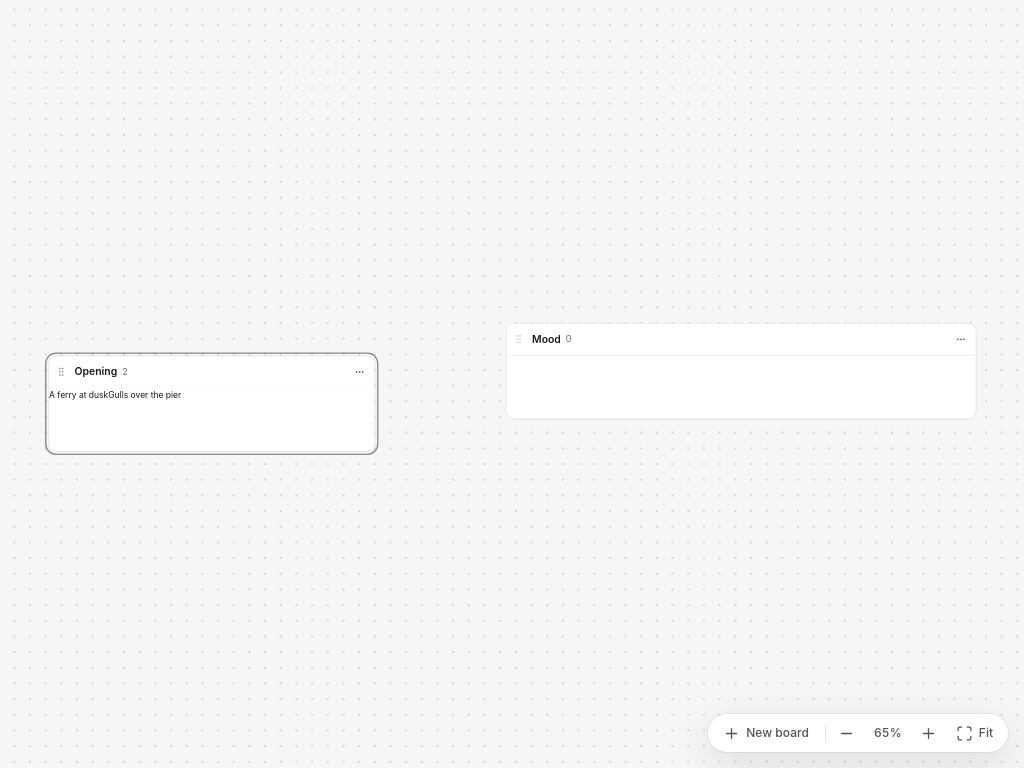
the Media canvas › a double click on the title renames inline: Enter saves, Escape cancels
Double-click the text "Opening" at (96, 372), box [75,365,117,379]
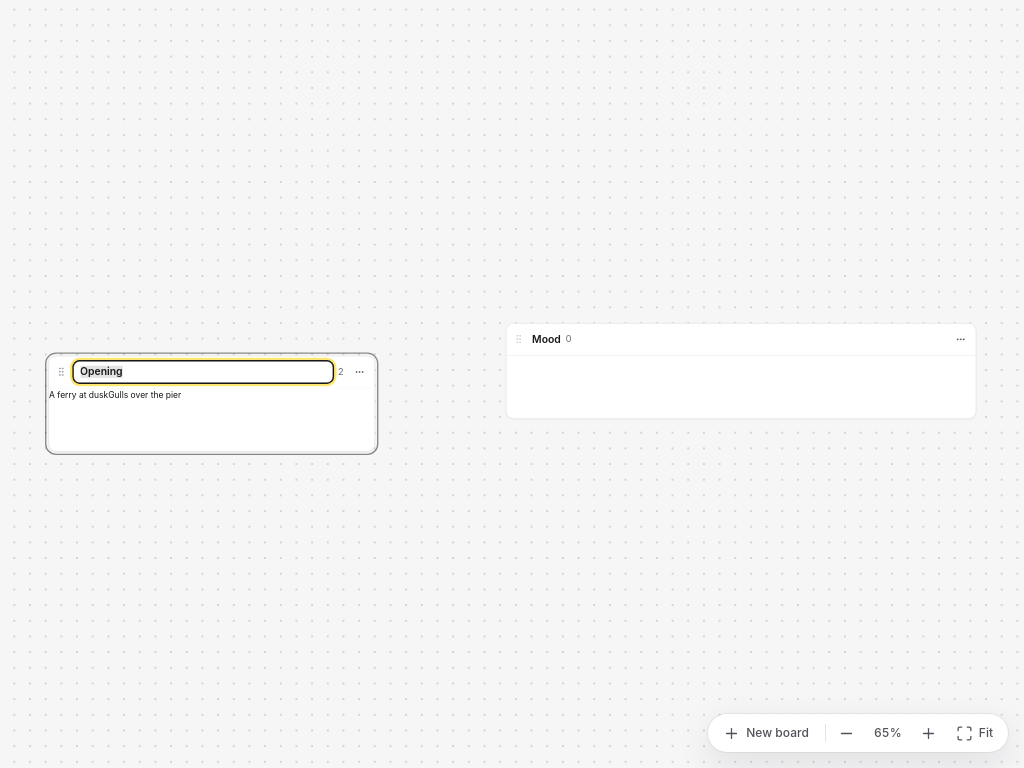
Replace the text in the field named "Board name" with "  Cold open  " at (203, 372), box [73,361,333,383]
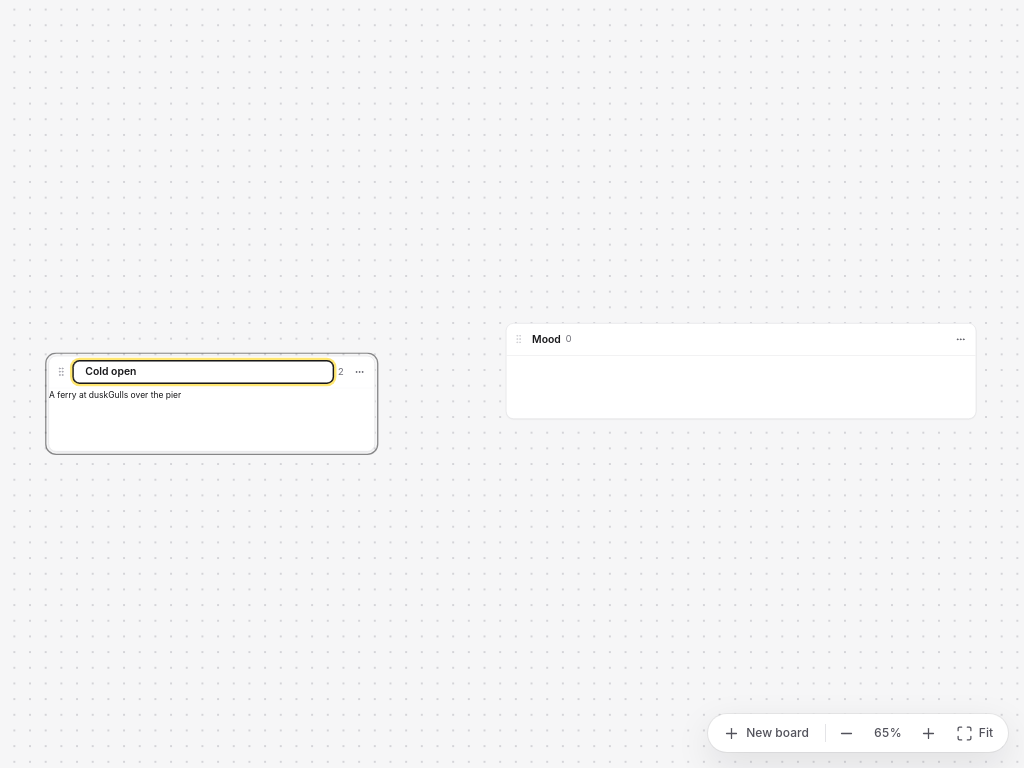
Press Enter in the field named "Board name", box [73,361,333,383]
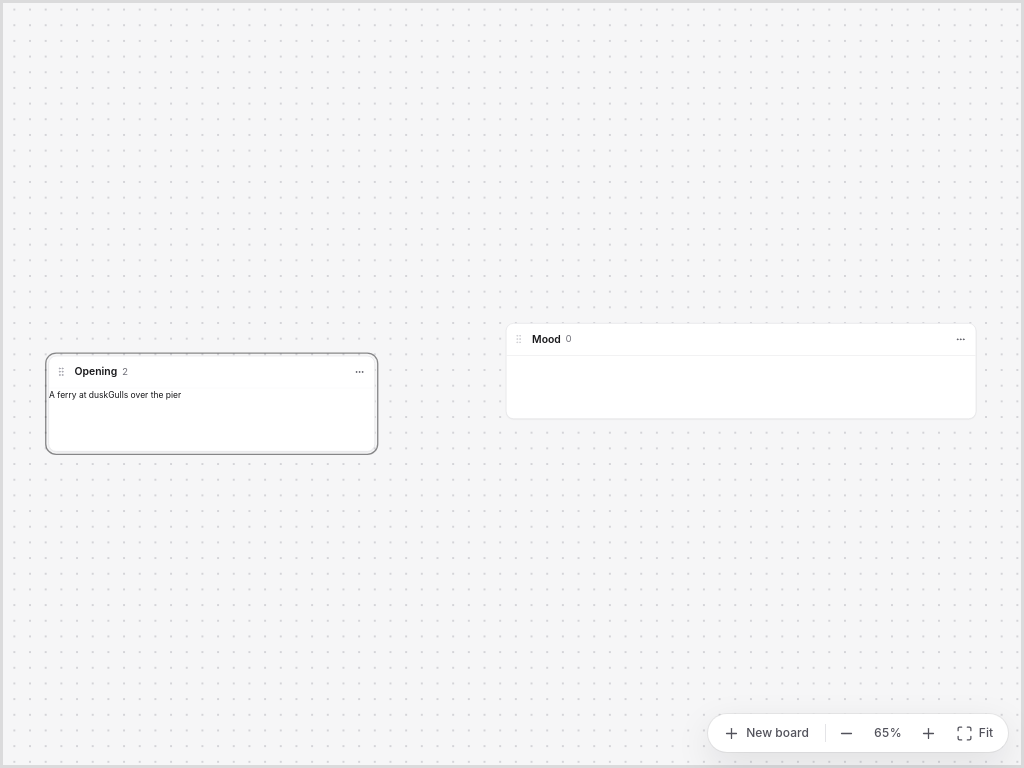
Double-click the text "Mood" at (546, 339), box [532,332,561,346]
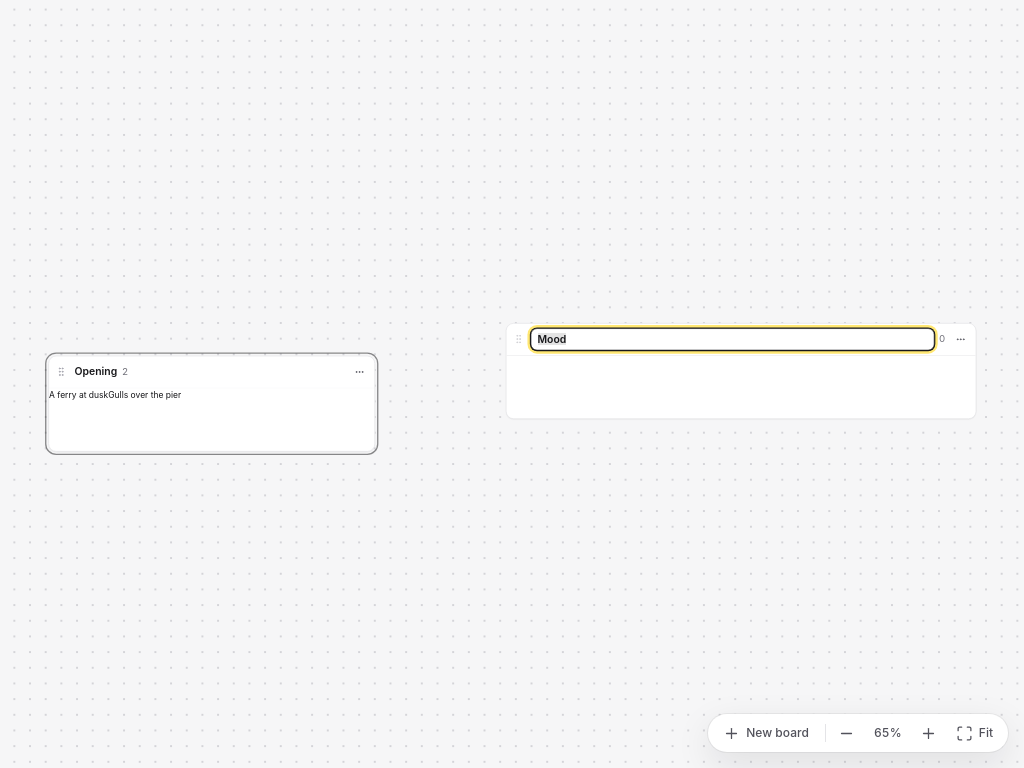
Replace the text in the field named "Board name" with "Never saved" at (732, 339), box [530,328,934,350]
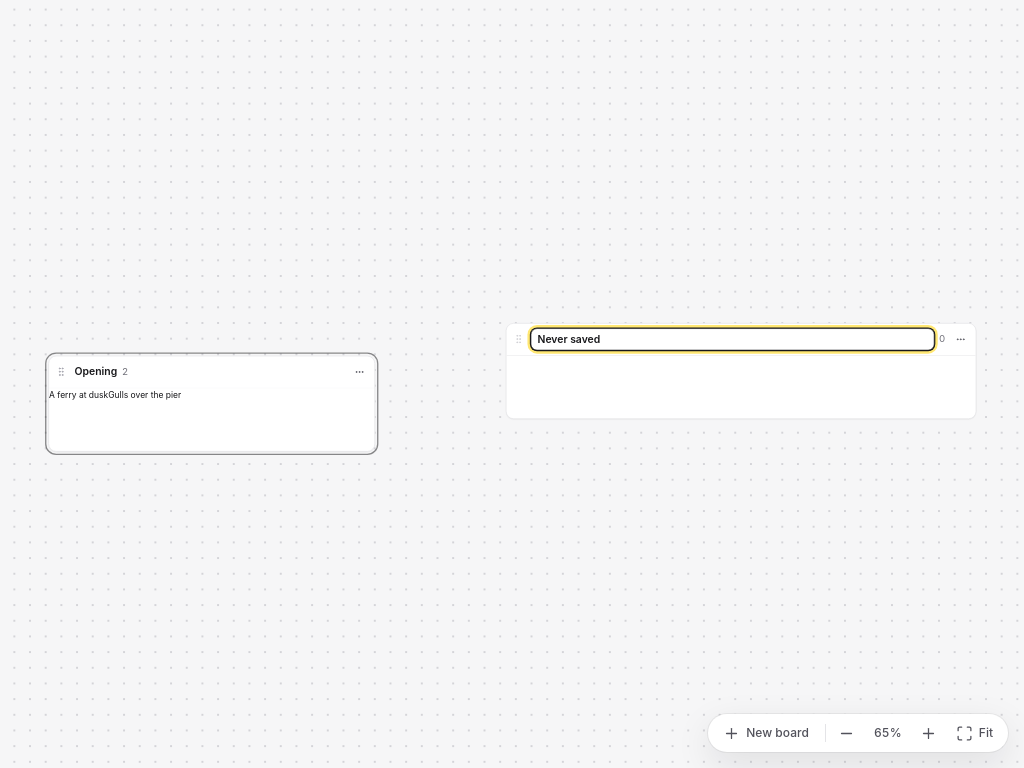
Press Escape in the field named "Board name", box [530,328,934,350]
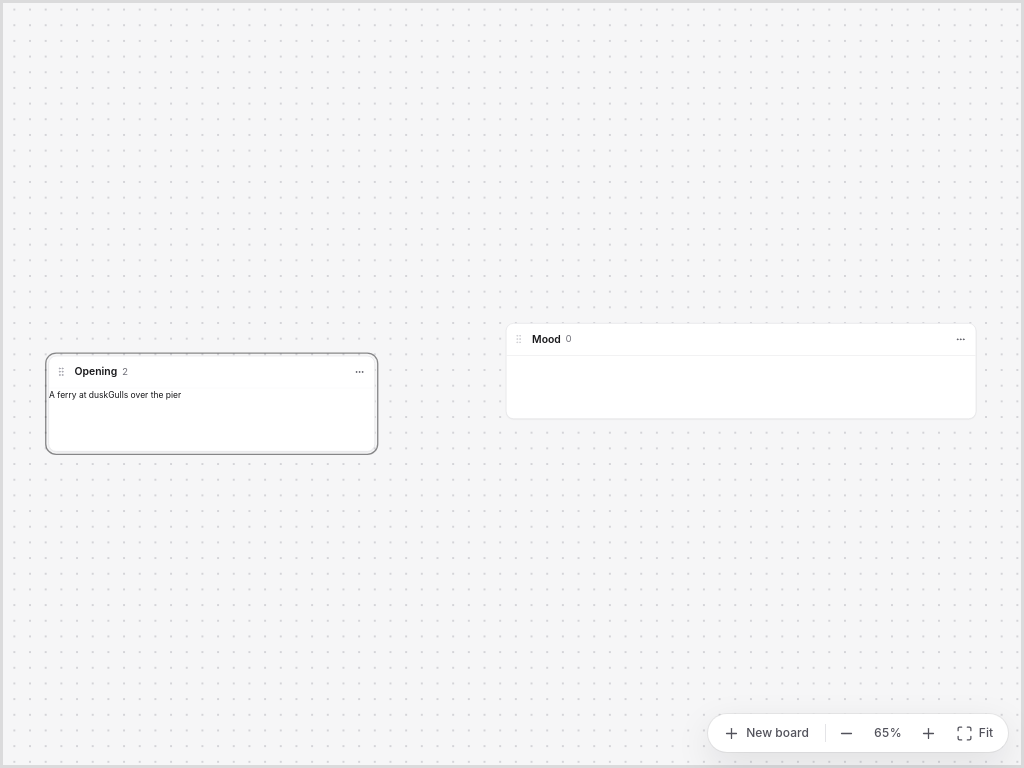
Now the text "Mood" is shown, box [532,332,561,346]
